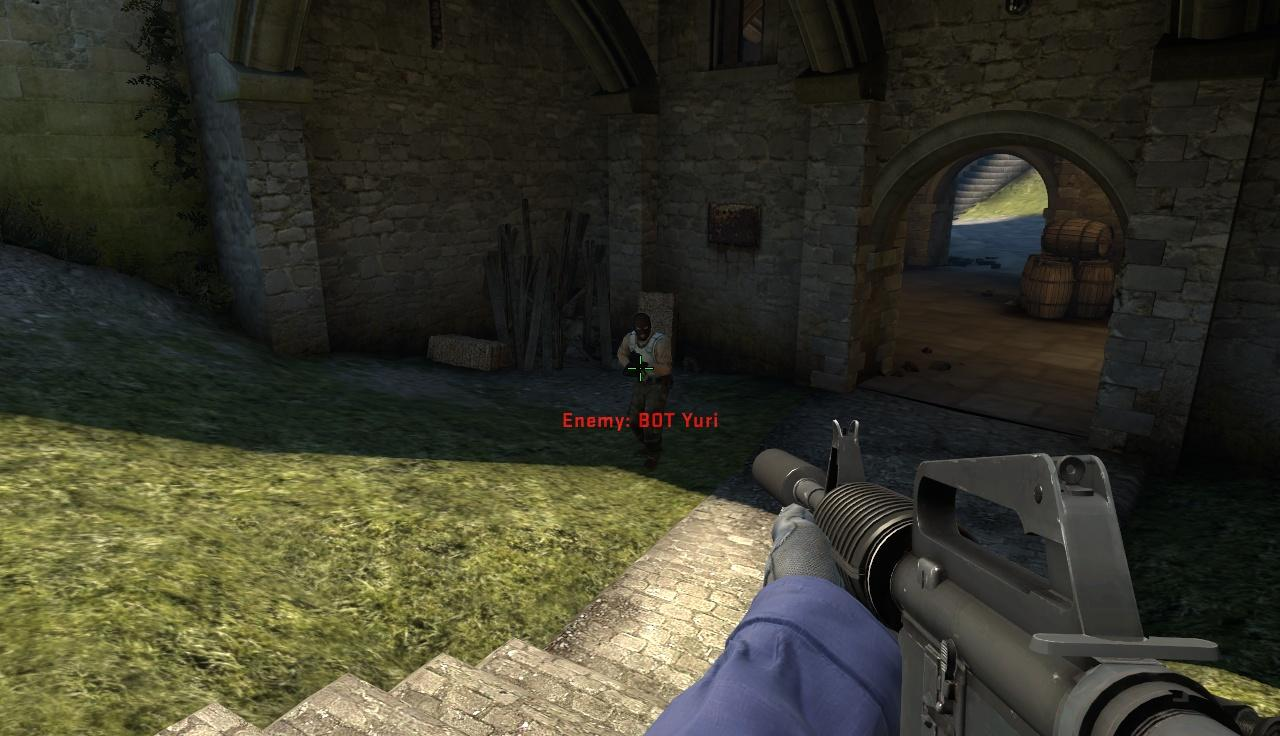rifle: (753, 416, 1280, 736)
tt: (626, 312, 668, 473)
tthead: (633, 314, 653, 342)
